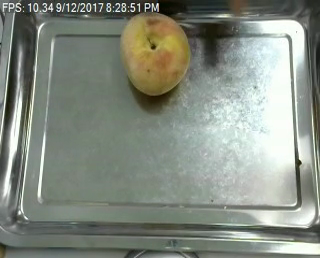Peach: (120, 10, 191, 95)
